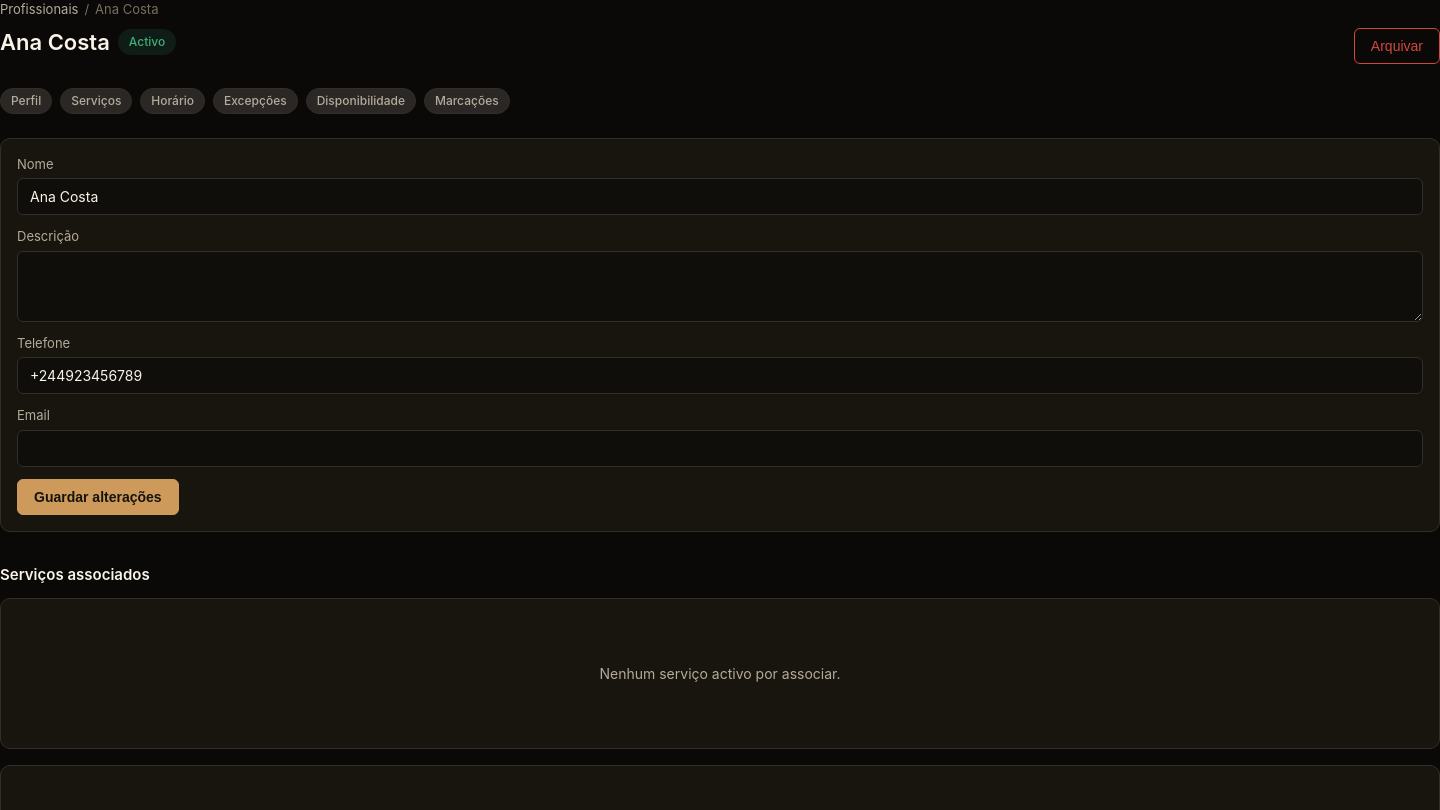
ProfessionalDetailPage — archive/reactivate › OWNER can archive an ACTIVE professional via the toggle button
Click the button "Arquivar". click: (1397, 46)
box: top-left (1354, 28), bottom-right (1439, 64)
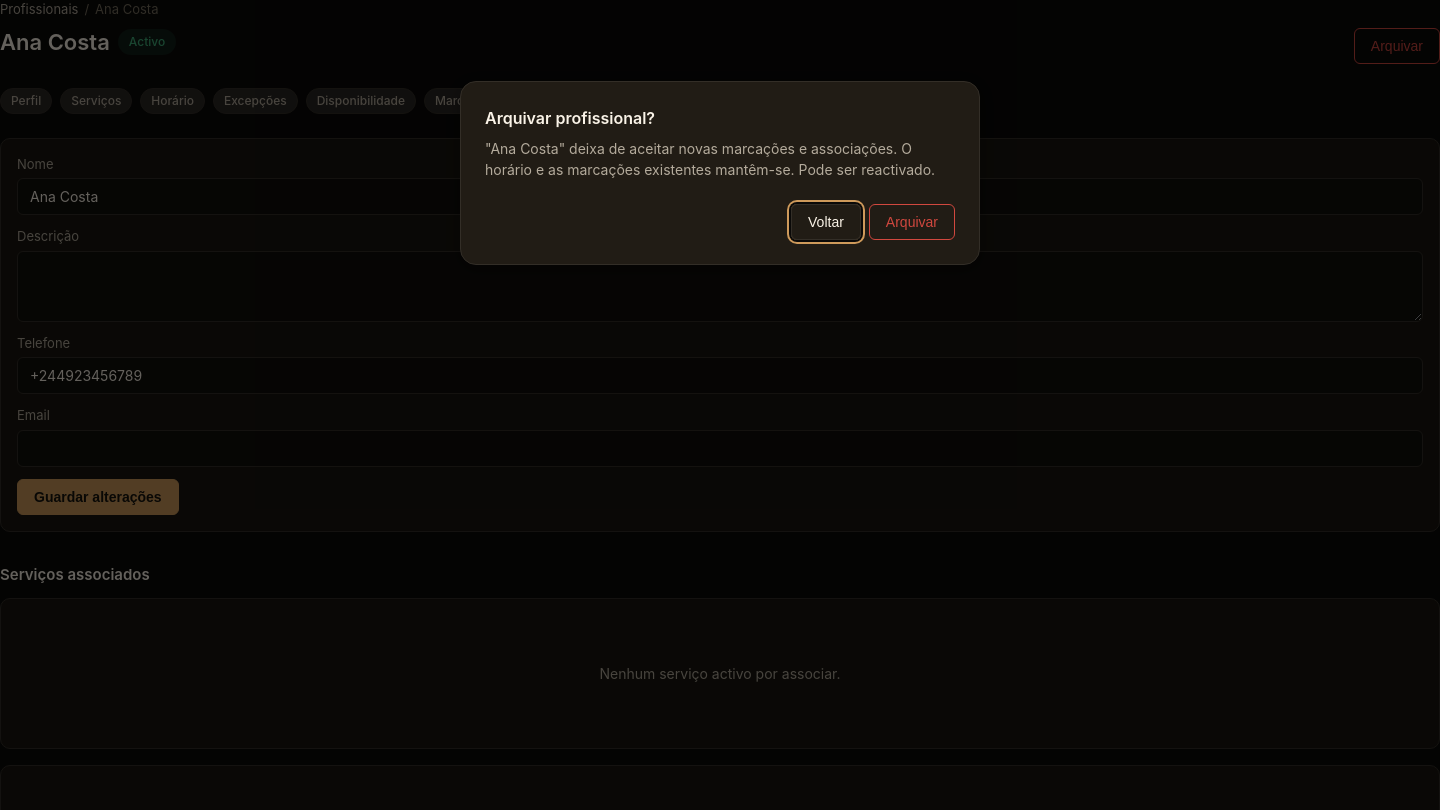
F29: archiving is a destructive action and now goes through a confirmation dialog.
Click the button "Arquivar". click: (912, 222)
box: top-left (869, 204), bottom-right (955, 240)
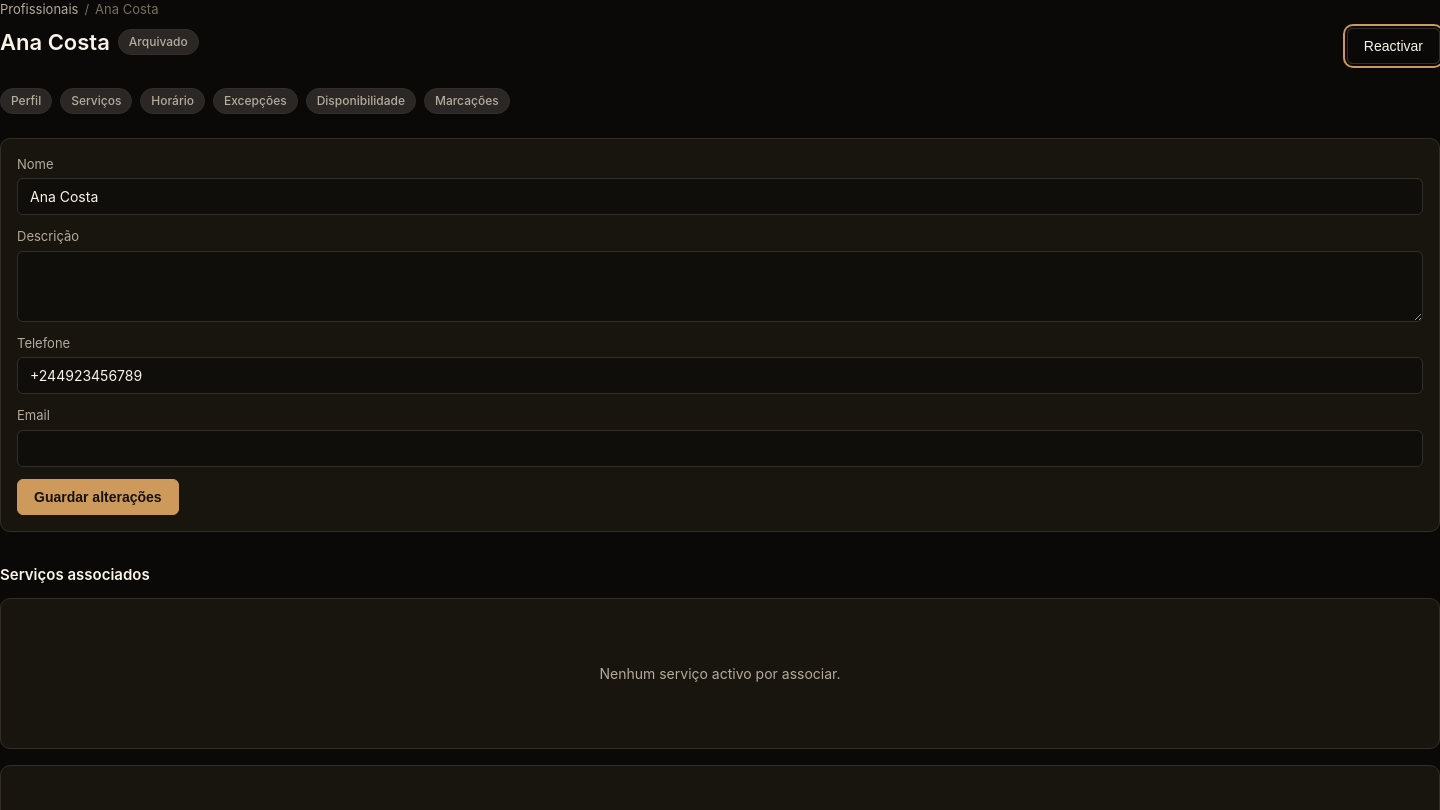
Expected: the button "Reactivar" is shown, top-left (1347, 28), bottom-right (1439, 64)
